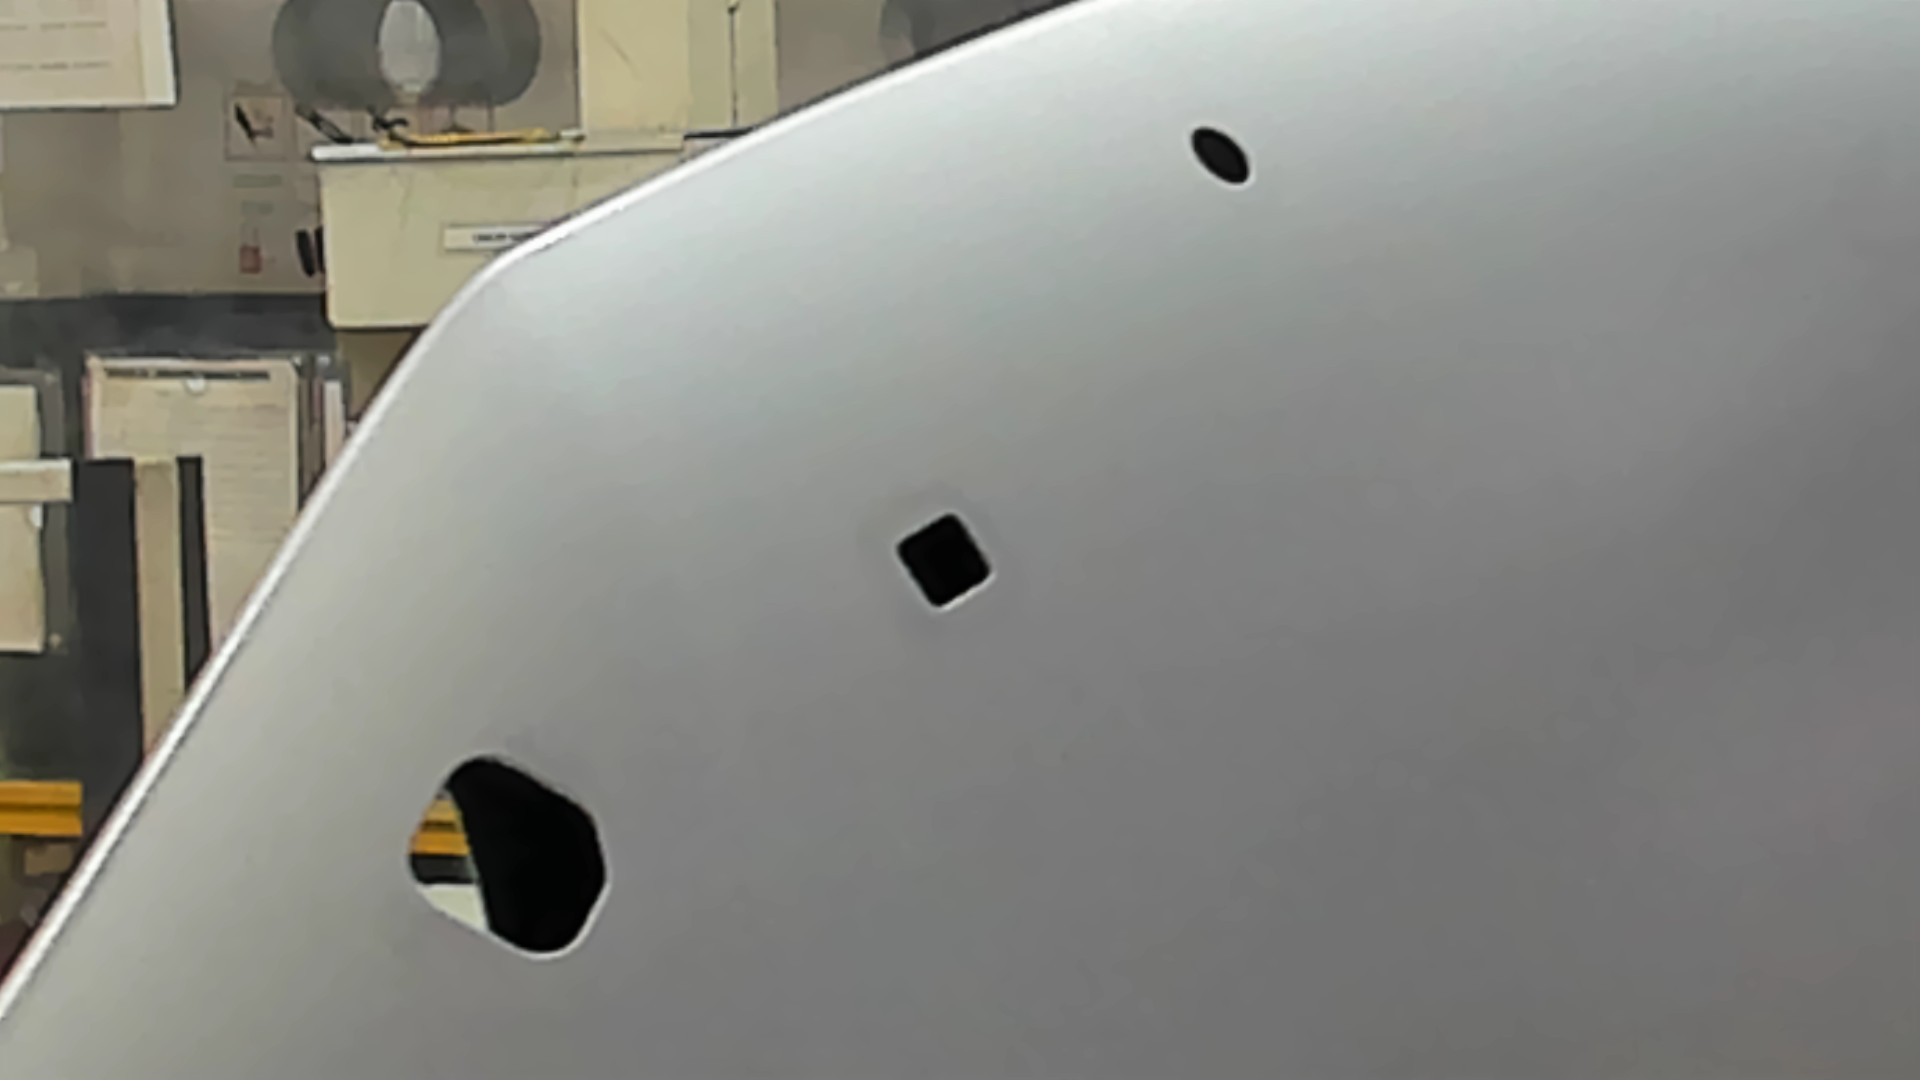Agujero: (891, 510, 993, 611), (1188, 125, 1251, 186)
Agujerote: (406, 752, 611, 959)
